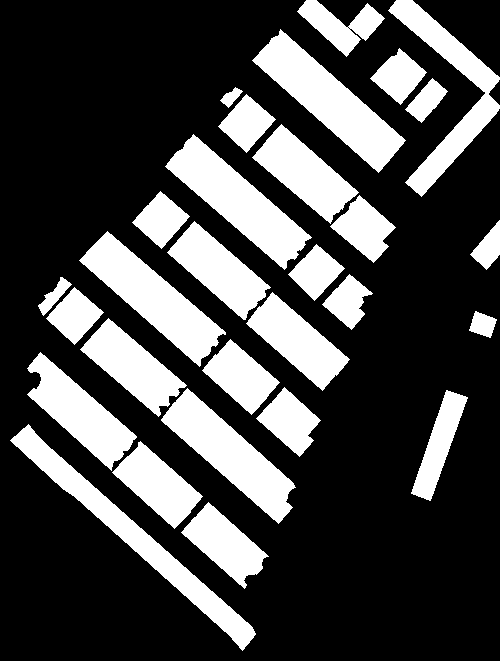parkingspot: (10, 424, 255, 650), (252, 44, 392, 172), (266, 29, 405, 157), (92, 231, 225, 351), (165, 149, 298, 269), (79, 245, 210, 366), (161, 402, 292, 523), (180, 134, 311, 252), (173, 388, 295, 502), (27, 352, 136, 453), (388, 0, 500, 94), (405, 92, 500, 196), (27, 379, 123, 470), (266, 124, 358, 209), (246, 306, 336, 390), (94, 318, 186, 400), (80, 332, 169, 416), (180, 221, 270, 304), (167, 236, 257, 319), (260, 292, 349, 375), (252, 140, 340, 223), (411, 390, 467, 500), (112, 456, 190, 528), (126, 441, 202, 513), (194, 502, 268, 574), (181, 517, 256, 588), (215, 339, 279, 399), (202, 354, 266, 414), (297, 0, 360, 56), (256, 403, 313, 456), (330, 212, 388, 262), (270, 387, 320, 436), (346, 195, 395, 242), (132, 205, 176, 248), (370, 62, 413, 104), (232, 94, 275, 136), (218, 110, 261, 152), (60, 287, 103, 329), (46, 302, 89, 344), (288, 258, 331, 300), (384, 48, 426, 90), (146, 191, 189, 232), (322, 288, 364, 329), (303, 244, 344, 283), (470, 219, 500, 269), (348, 3, 384, 40), (336, 274, 372, 308), (418, 78, 447, 108), (405, 93, 434, 122), (469, 311, 496, 337), (49, 277, 71, 300), (38, 292, 58, 315), (220, 87, 242, 107)
